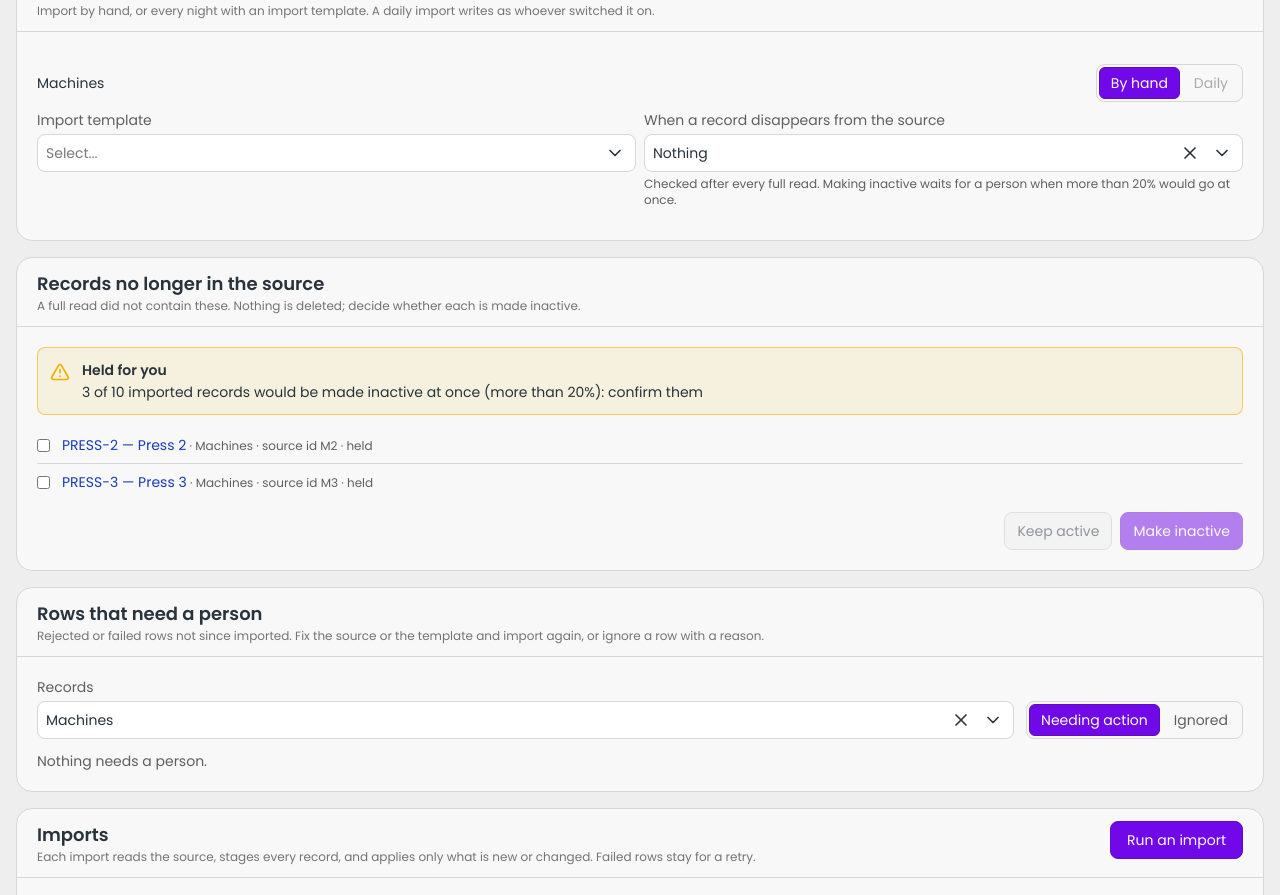
Scenario: records no longer in the source › keeps chosen records active with a reason, and makes others inactive
Later steps or results of the test are not shown.
(page scrolled)
Expected: the text "Held for you" is shown, x1=82 y1=360 x2=167 y2=380
Click the checkbox named "PRESS-2" at (44, 445), box x1=37 y1=438 x2=50 y2=452
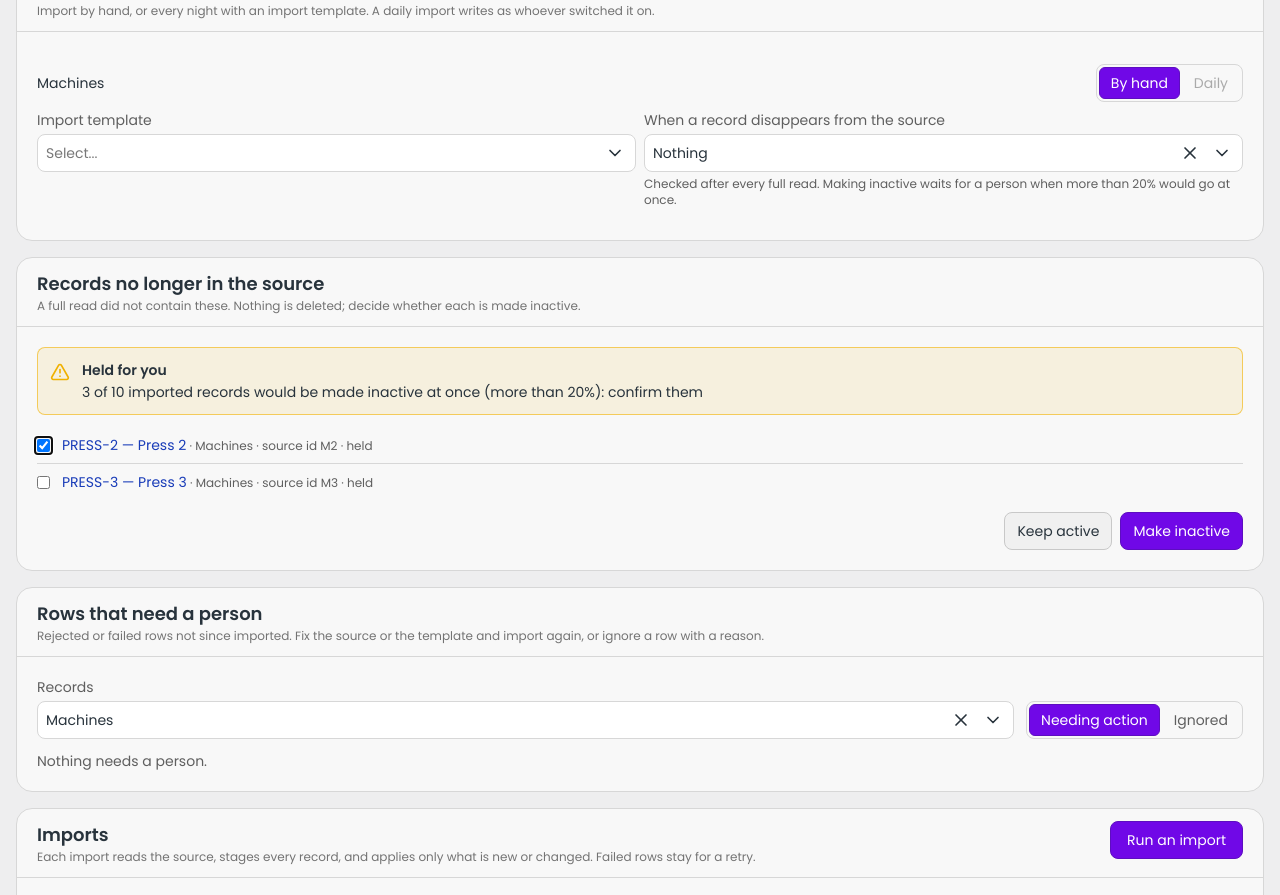
Click the button "Keep active" at (1058, 531), box x1=1004 y1=512 x2=1112 y2=550
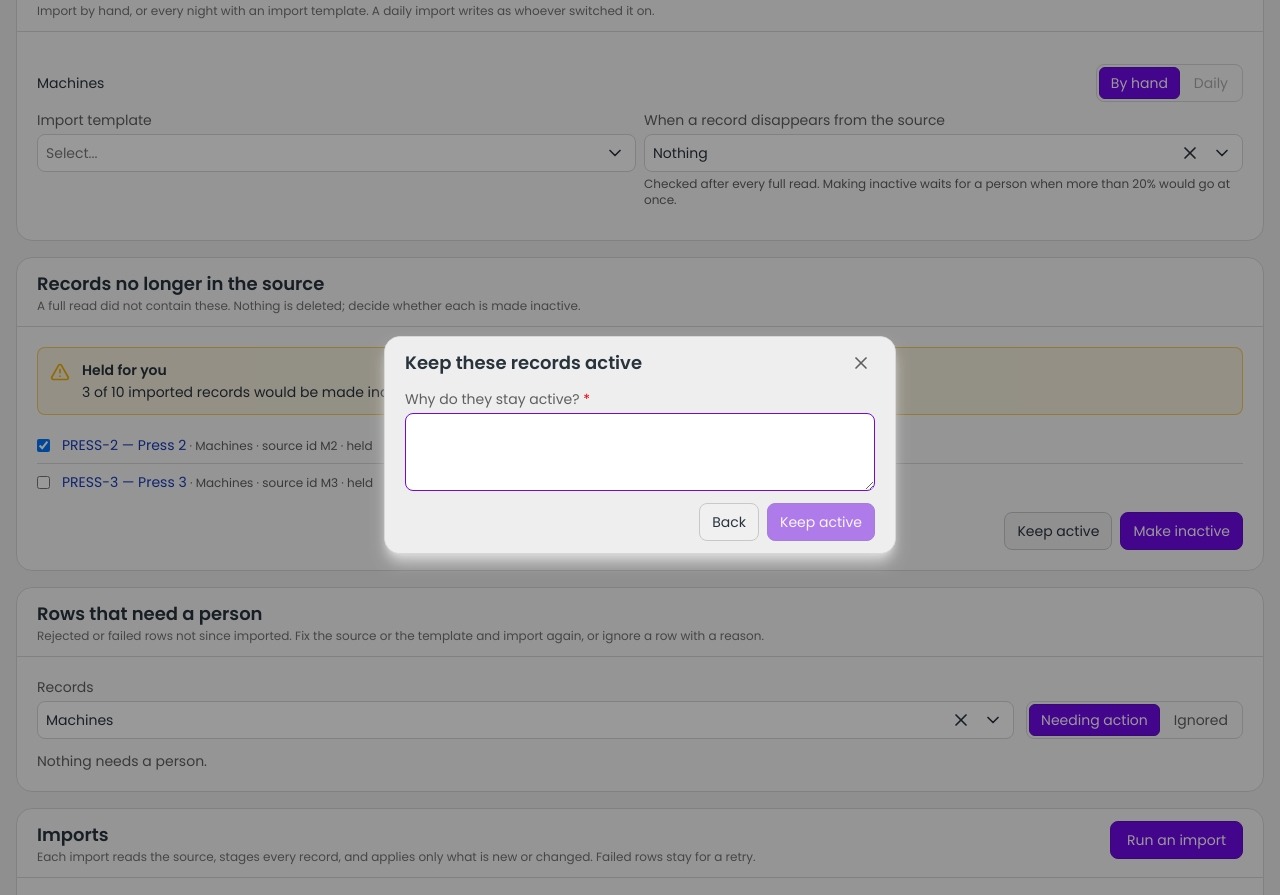
Type "Moved to another cell" into the text box labelled "Why do they stay active?" at (640, 452), box x1=405 y1=413 x2=875 y2=491
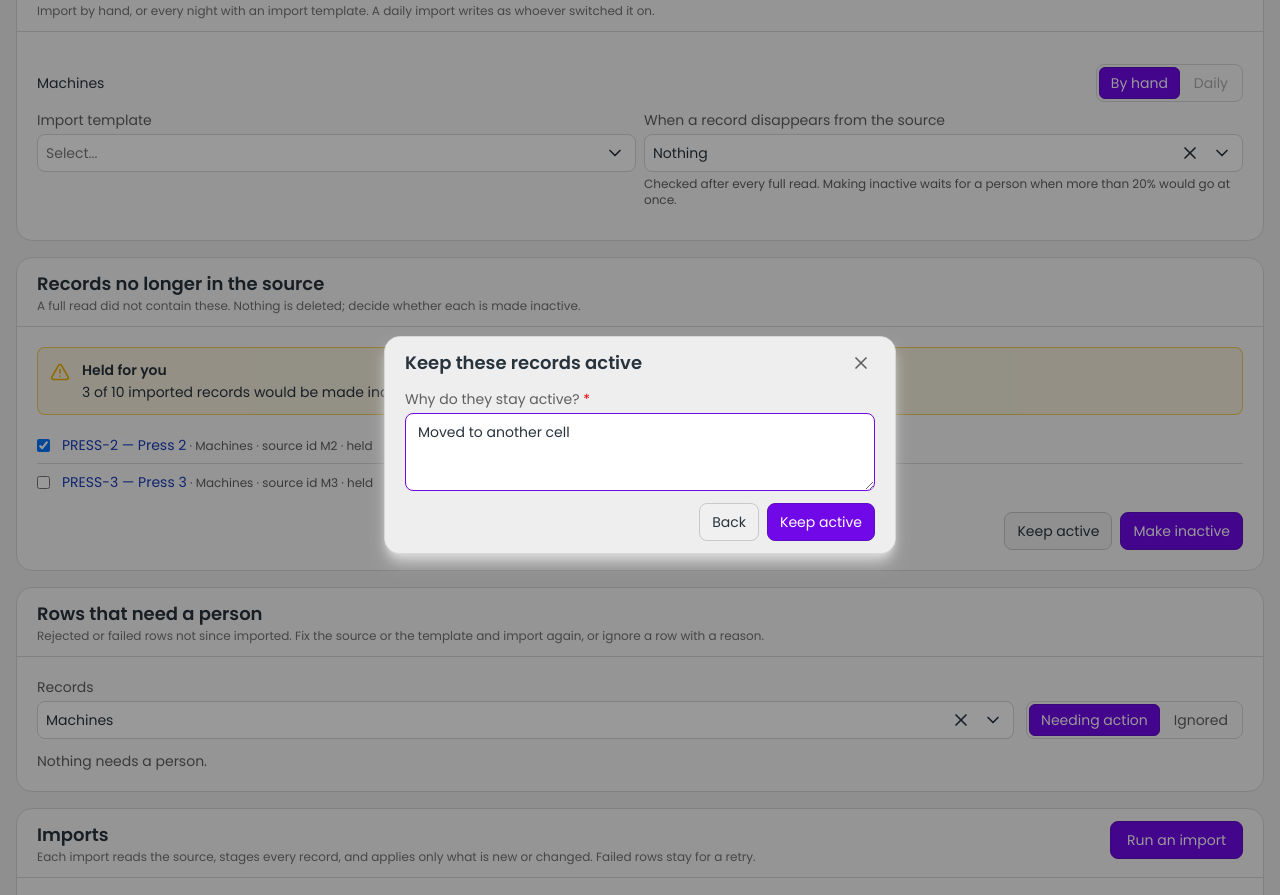
Click the button "Keep active" at (821, 522), box x1=767 y1=503 x2=875 y2=541
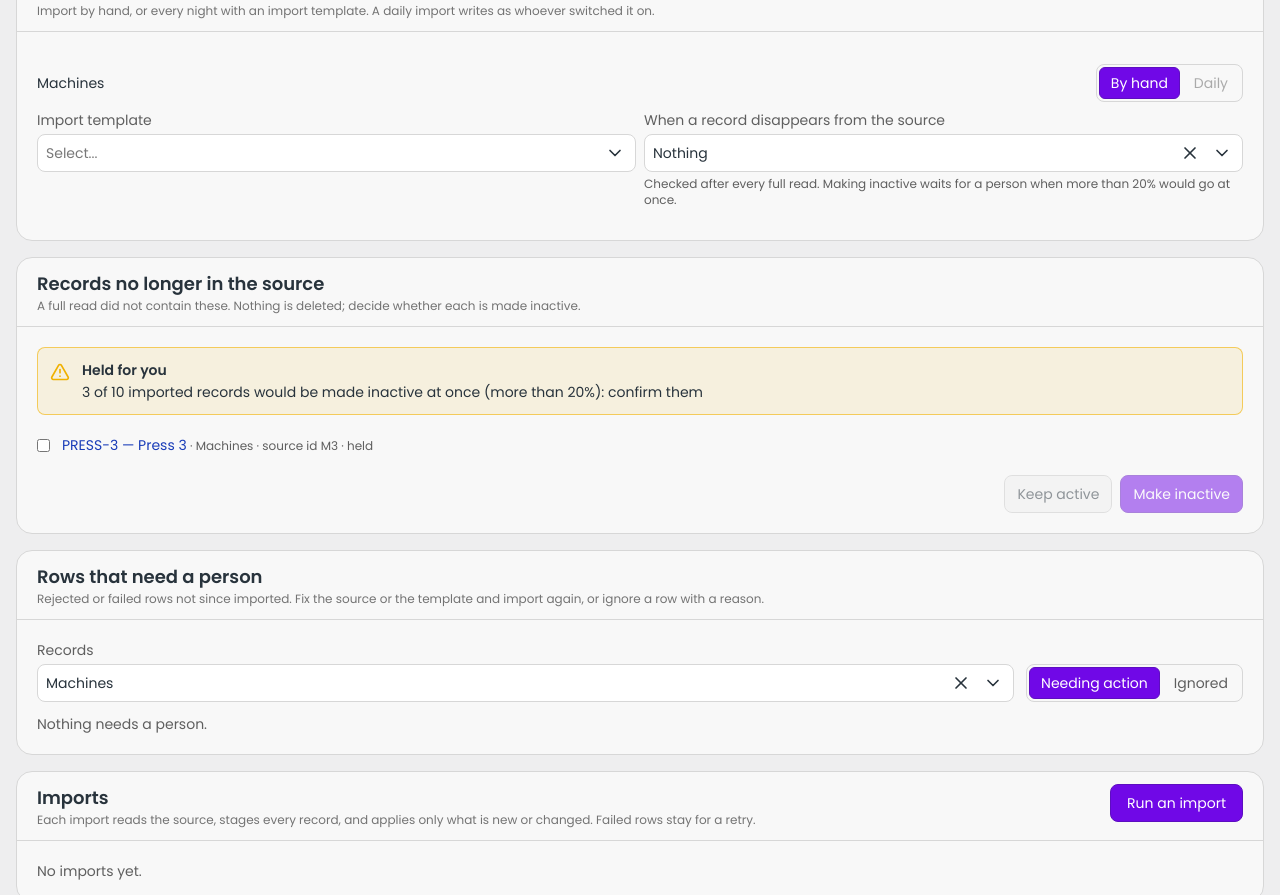
Result: the link "PRESS-2" is gone
